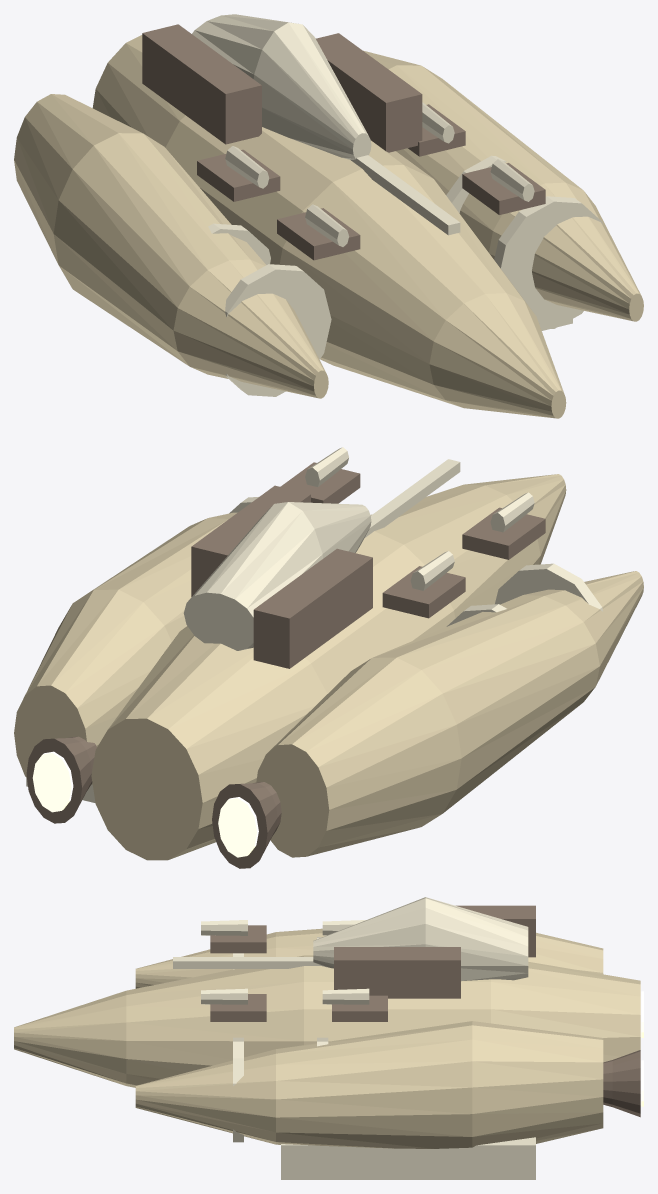
3 renders of one model, top to bottom at view 1: azimuth 30°, elevation 25°; view 2: azimuth 150°, elevation 25°; view 3: azimuth 270°, elevation 25°, orthographic. The views are drawn at different scales.
Size of the model in its own units: 7.08 by 4.49 by 11.9.
